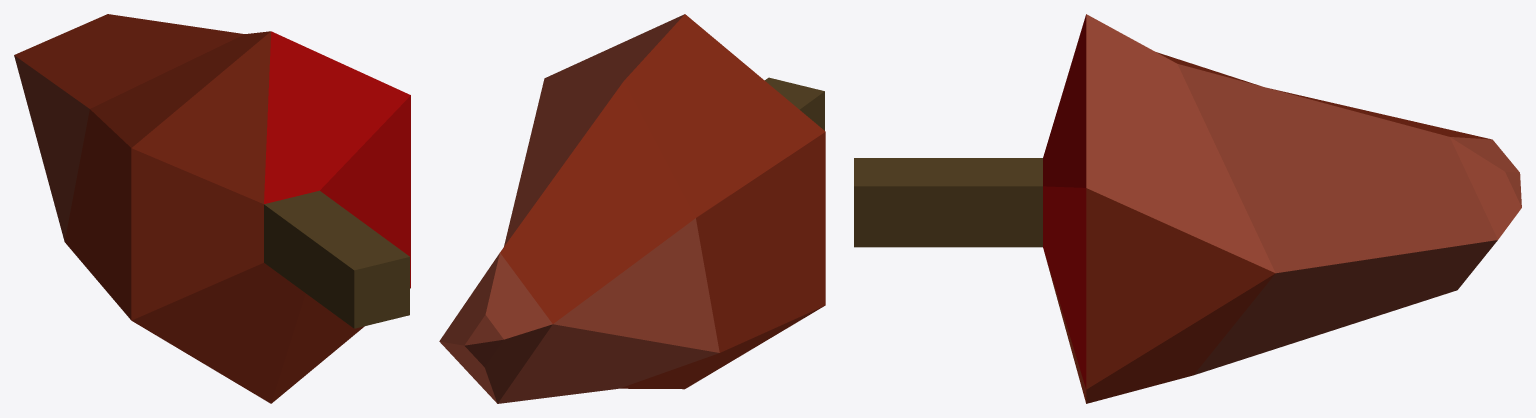
Rendered from tree_11.fbx.
3 views of the same model, side by side, from view 1: azimuth 30°, elevation 25°; view 2: azimuth 150°, elevation 25°; view 3: azimuth 270°, elevation 25° (orthographic). The views are drawn at different scales.
Visible parts, largest first — view 1: tree_11; view 2: tree_11; view 3: tree_11.
Boxes of the visible parts, bbox=[...] form: tree_11: bbox=[14, 14, 410, 403]; tree_11: bbox=[439, 14, 825, 403]; tree_11: bbox=[854, 14, 1521, 403].
Bounding box in the file's own units: 113 × 144 × 224.
